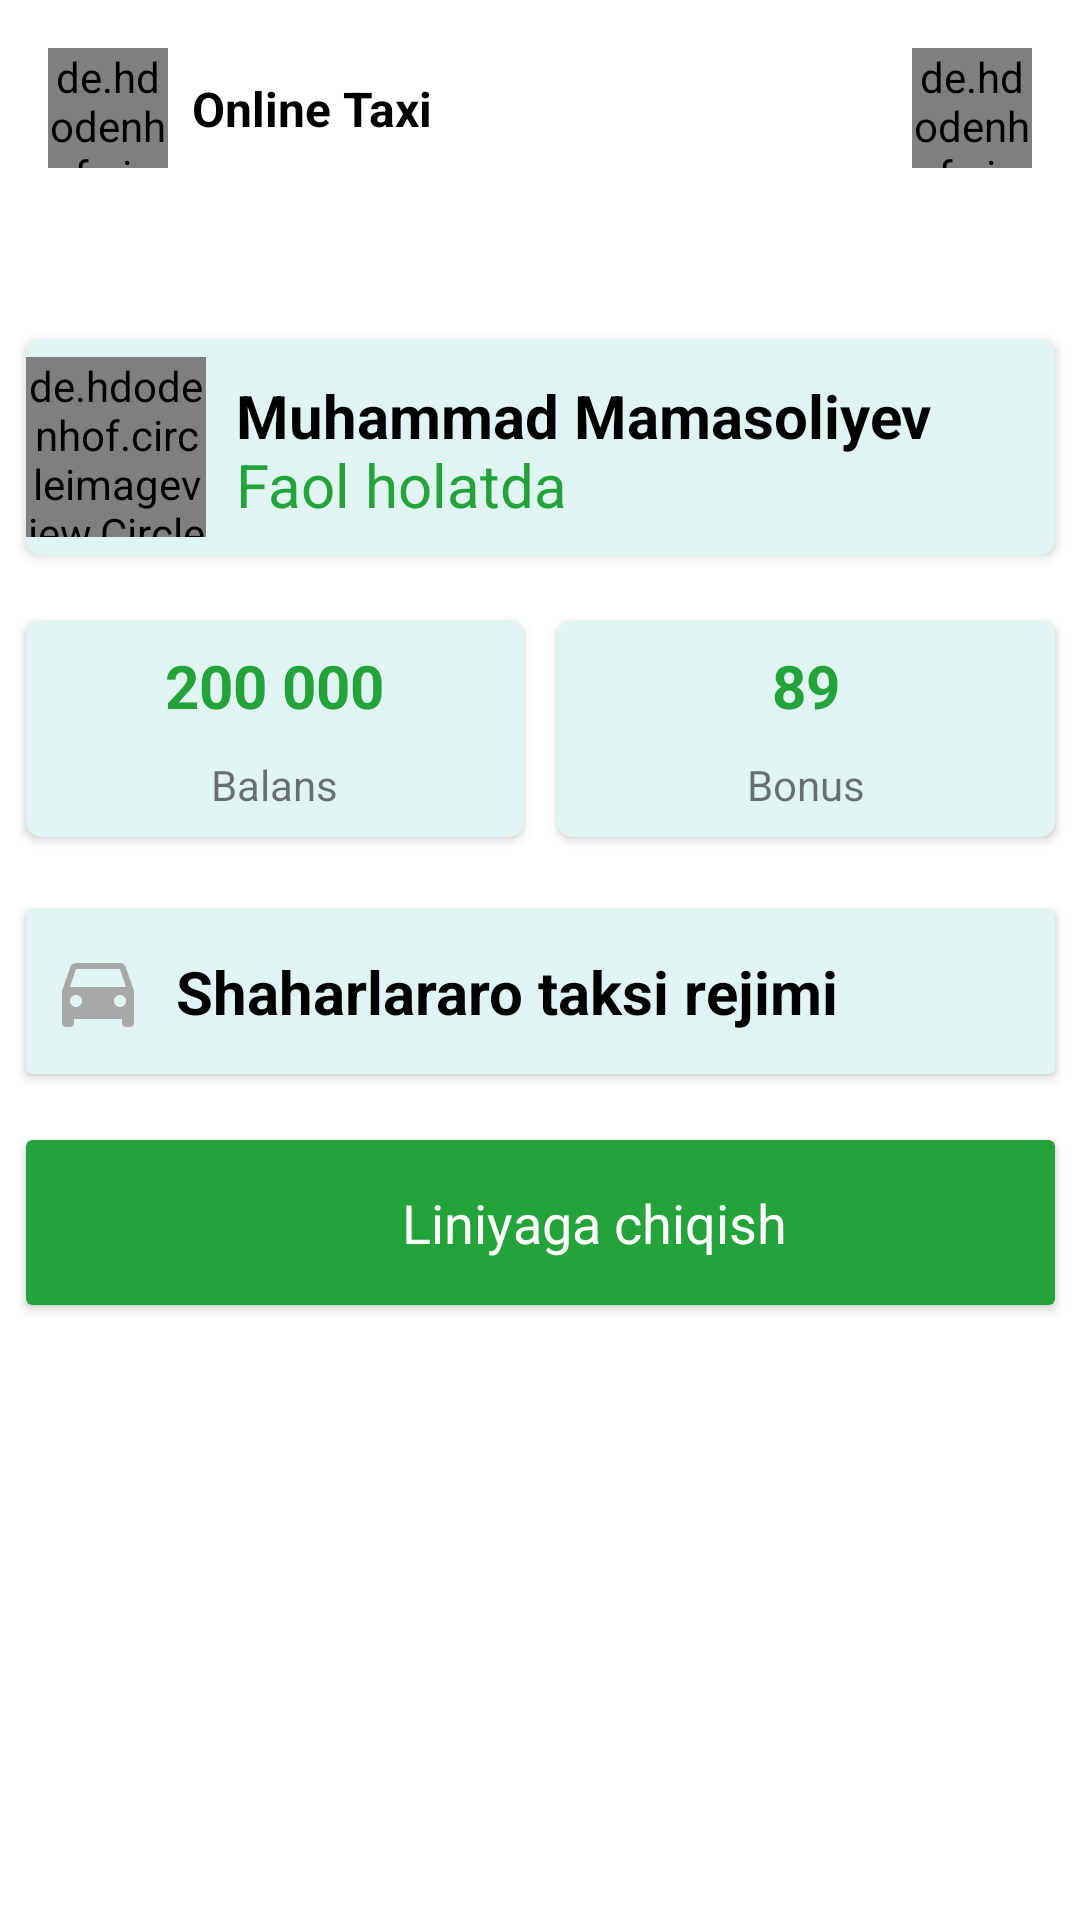

Icons on this 1080px×1920px Android screen, each with its box as (x1, y1, x2, y2):
car: (62, 963, 134, 1027)
